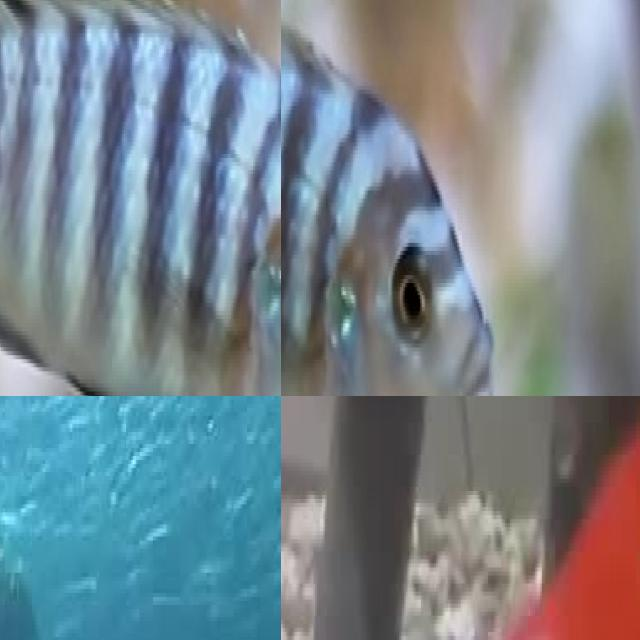fish: (0, 0, 281, 396), (281, 0, 499, 396)
